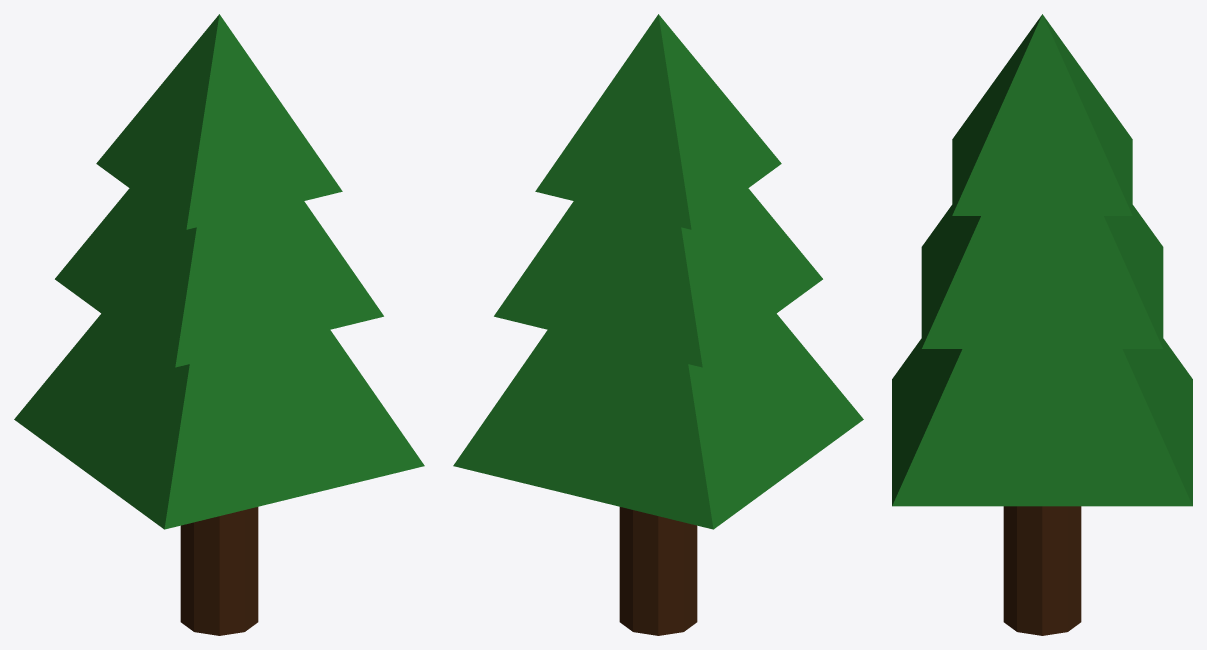
Rendered from tree.dae.
3 renders of one model, left to right at view 1: azimuth 30°, elevation 25°; view 2: azimuth 150°, elevation 25°; view 3: azimuth 270°, elevation 25°, orthographic.
Parts seen in each view (by area): view 1: leaves, trunk; view 2: leaves, trunk; view 3: leaves, trunk.
Boxes of the visible parts, x1=… form: leaves: x1=14, y1=14, x2=424, y2=529; trunk: x1=180, y1=507, x2=258, y2=635; leaves: x1=453, y1=14, x2=863, y2=529; trunk: x1=619, y1=507, x2=697, y2=635; leaves: x1=892, y1=14, x2=1192, y2=506; trunk: x1=1003, y1=506, x2=1081, y2=635.
Bounding box in the file's own units: 22.9 × 50.84 × 22.9.
